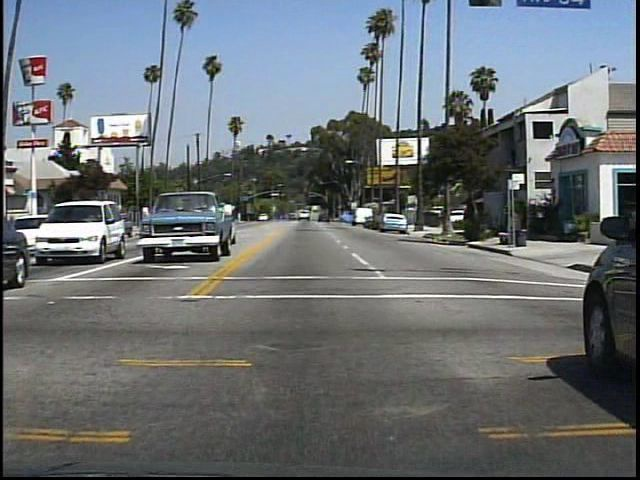person: (479, 199, 502, 245)
